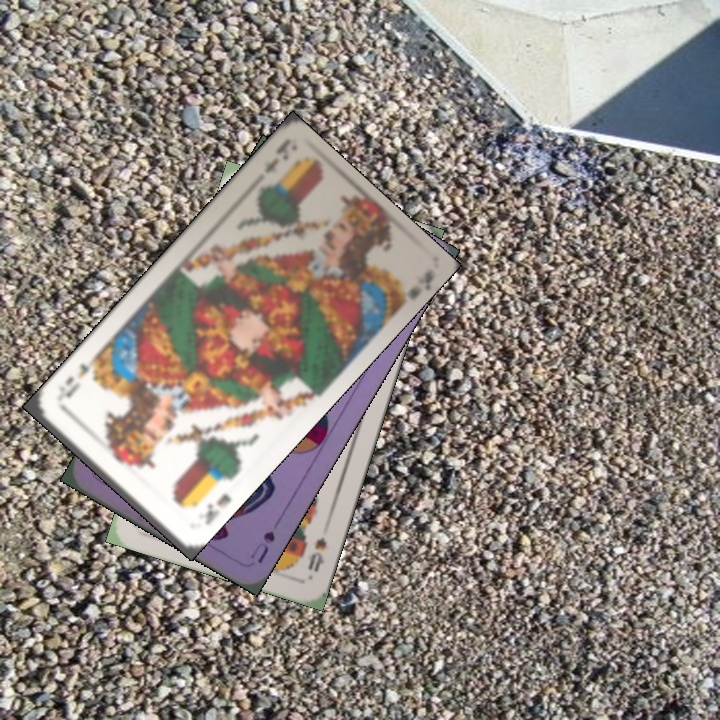EK: (200, 489, 234, 528), (260, 138, 292, 176)
S8: (303, 533, 330, 575)
SU: (246, 526, 278, 566)
